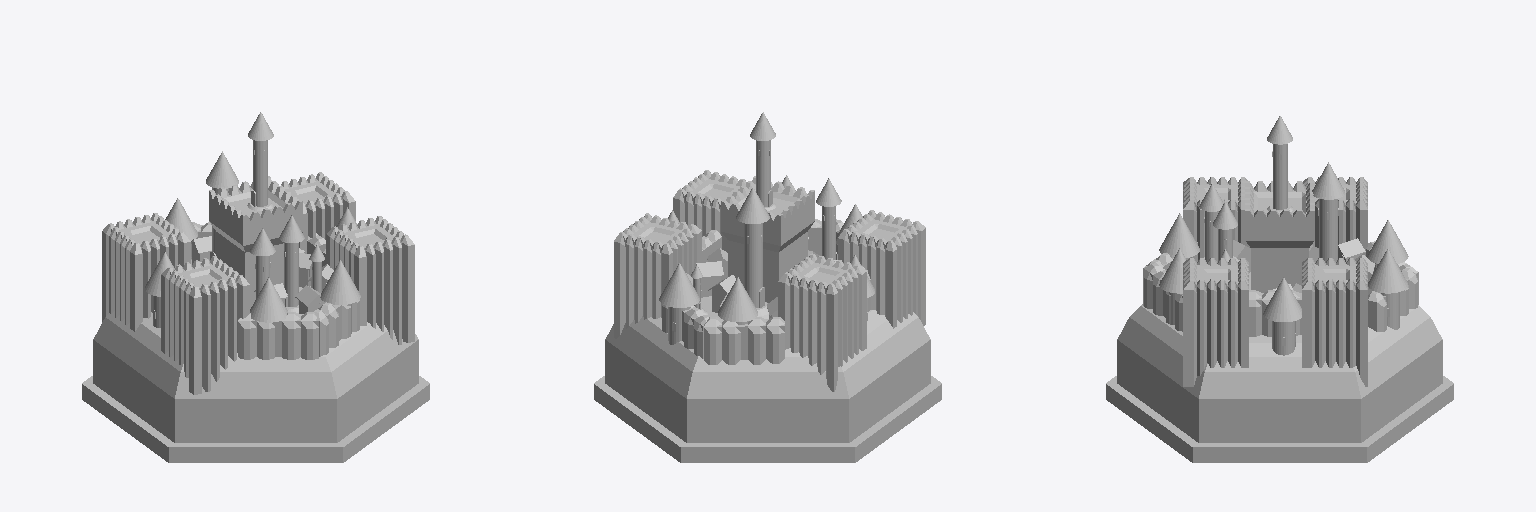
File: Capital.obj
3 views of the same model, side by side, from view 1: azimuth 30°, elevation 25°; view 2: azimuth 150°, elevation 25°; view 3: azimuth 270°, elevation 25° (orthographic).
Visible parts, largest first — view 1: Cube.036; view 2: Cube.036; view 3: Cube.036.
Part boxes in pixels (bbox=[...]): Cube.036: bbox=[82, 112, 429, 462]; Cube.036: bbox=[594, 112, 941, 462]; Cube.036: bbox=[1106, 116, 1453, 462].
Size of the model in its own units: 17.32 by 18.14 by 20.